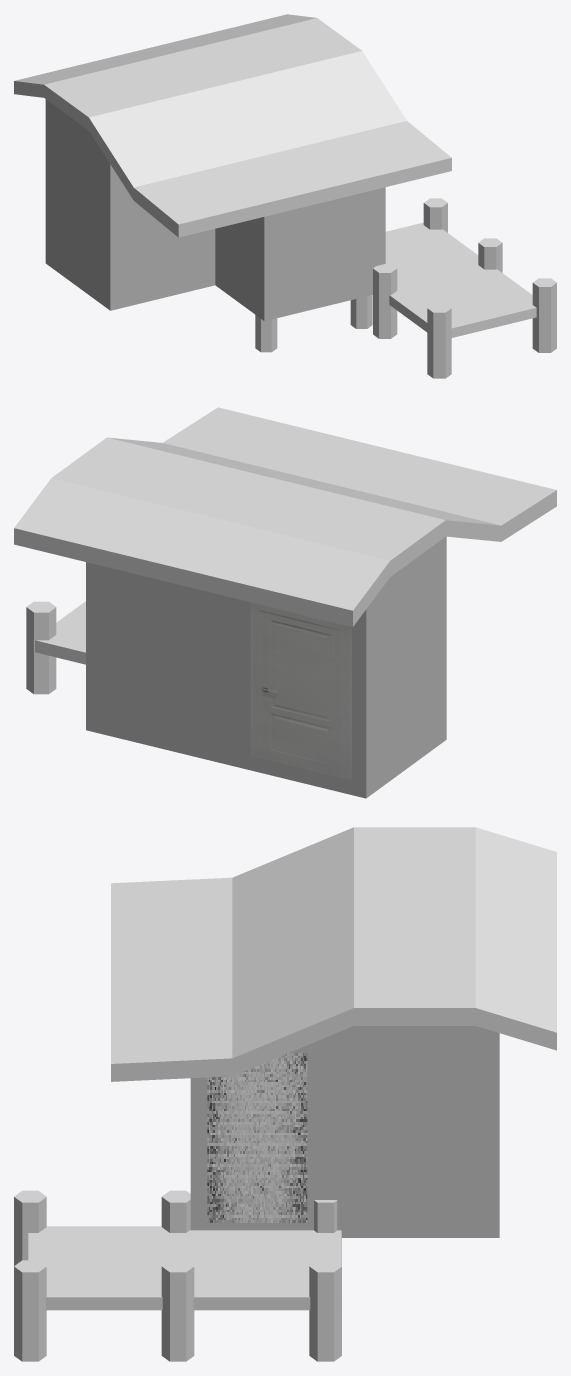
File: dockHouse2.fbx
3 renders of one model, top to bottom at view 1: azimuth 30°, elevation 25°; view 2: azimuth 150°, elevation 25°; view 3: azimuth 270°, elevation 25°, orthographic. The views are drawn at different scales.
Parts seen in each view (by area): view 1: houseRoof, house, dock, dockSupports, hosueSupports; view 2: houseRoof, house, dockSupports, dock; view 3: houseRoof, house, dock, dockSupports.
Boxes of the visible parts, x1=… form: houseRoof: x1=14, y1=14, x2=451, y2=237; house: x1=45, y1=99, x2=385, y2=321; dock: x1=385, y1=222, x2=536, y2=337; dockSupports: x1=373, y1=198, x2=556, y2=378; hosueSupports: x1=255, y1=295, x2=372, y2=352; houseRoof: x1=14, y1=407, x2=556, y2=626; house: x1=86, y1=536, x2=446, y2=798; dockSupports: x1=26, y1=601, x2=56, y2=694; dock: x1=33, y1=601, x2=85, y2=664; houseRoof: x1=111, y1=827, x2=556, y2=1081; house: x1=190, y1=1026, x2=499, y2=1237; dock: x1=28, y1=1226, x2=341, y2=1310; dockSupports: x1=14, y1=1190, x2=341, y2=1361.
Size of the model in its own units: 387 by 242 by 389.
